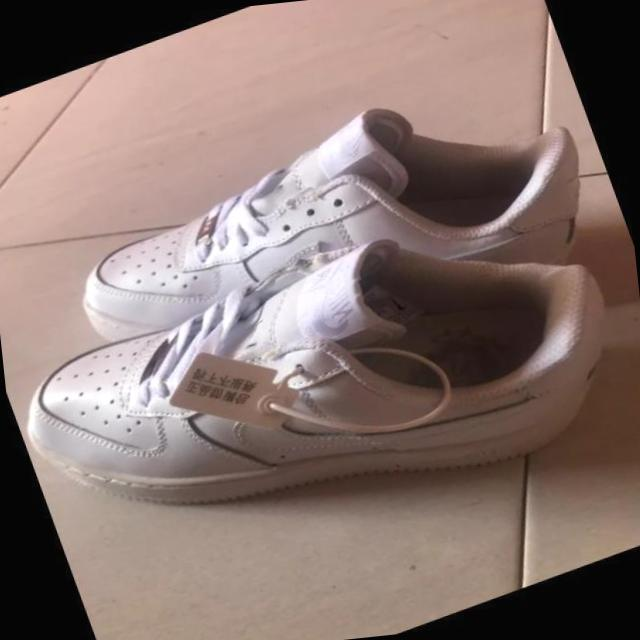nike_fake_airforce: (0, 163, 640, 622), (0, 39, 626, 441)
